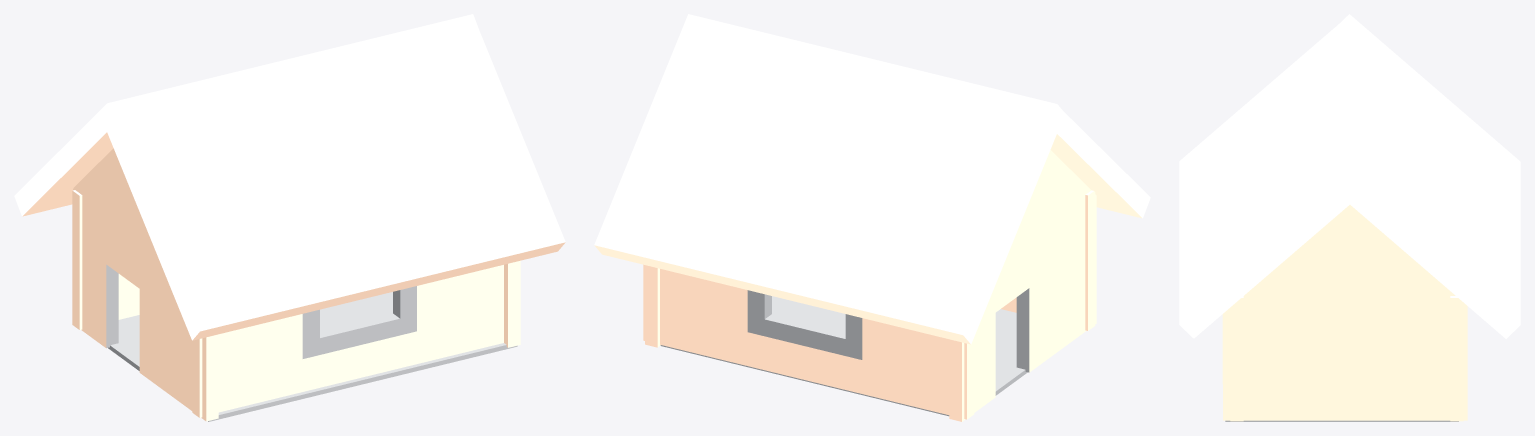
File: logcabin.glb
3 views of the same model, side by side, from view 1: azimuth 30°, elevation 25°; view 2: azimuth 150°, elevation 25°; view 3: azimuth 270°, elevation 25° (orthographic). The views are drawn at different scales.
Visible parts, largest first — view 1: Cube.005; view 2: Cube.005; view 3: Cube.005.
Part boxes in pixels (x1,y1,x2,y2): Cube.005: (14, 14, 565, 421); Cube.005: (594, 14, 1150, 421); Cube.005: (1179, 14, 1520, 421).
Bounding box in the file's own units: 5.7 × 4.13 × 5.02.
